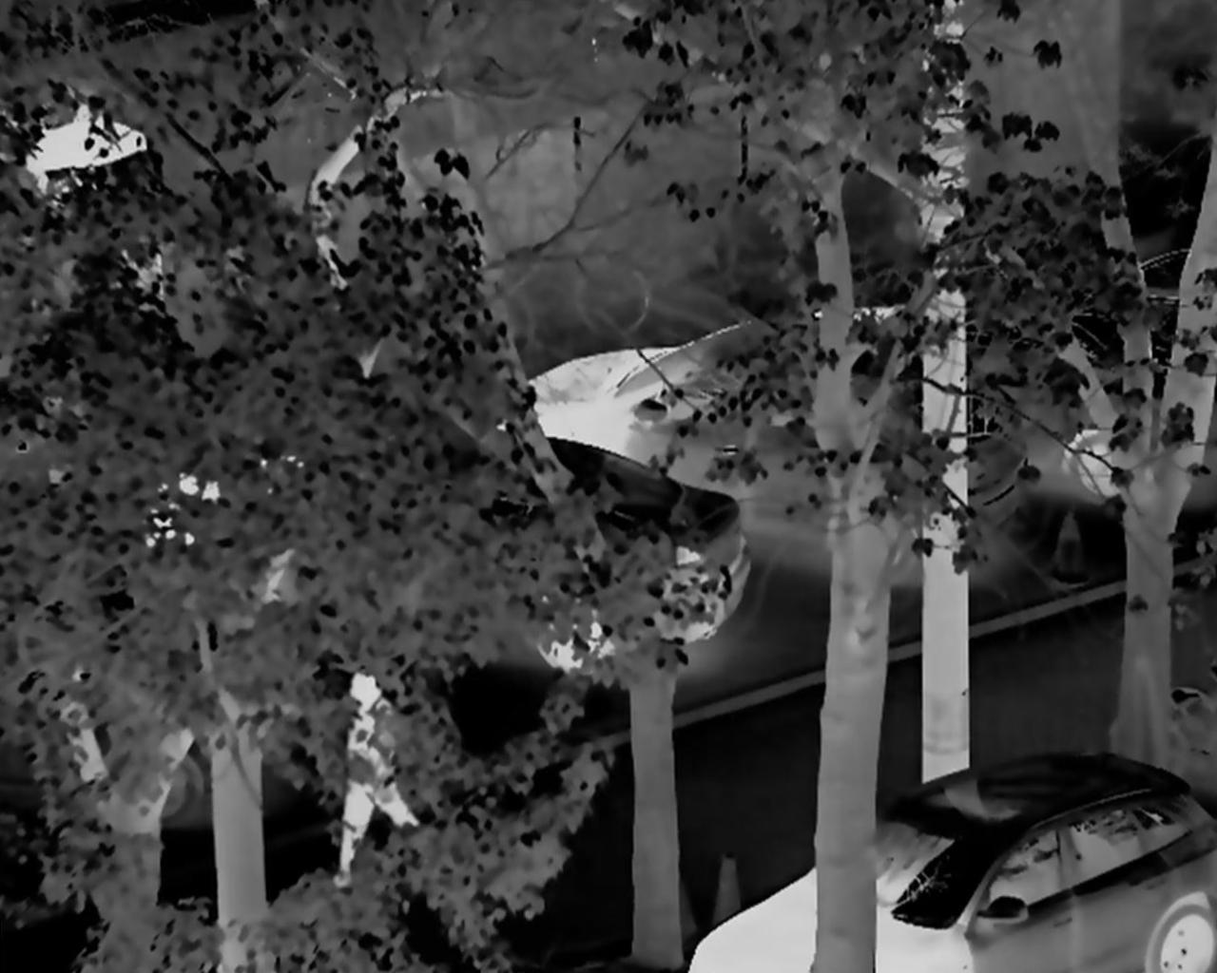person: (328, 675, 434, 893)
